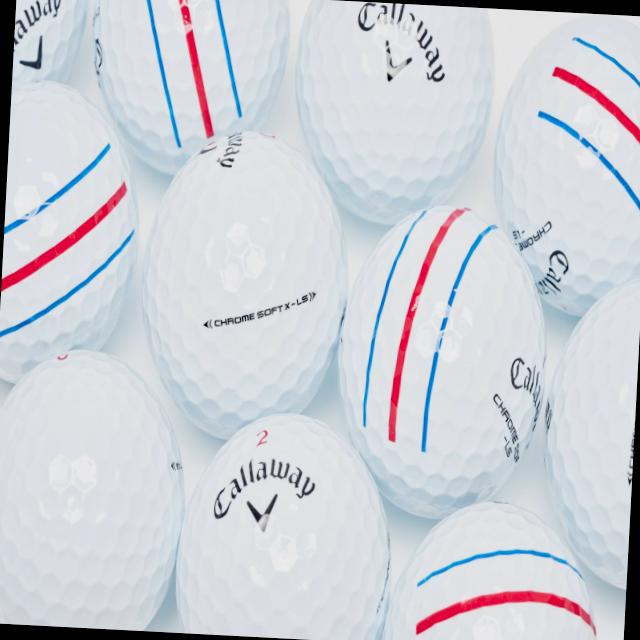ball: (130, 123, 360, 450)
